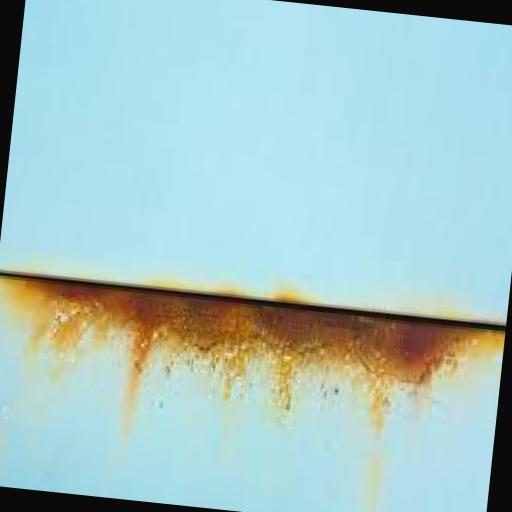corrosion: (46, 290, 448, 420)
